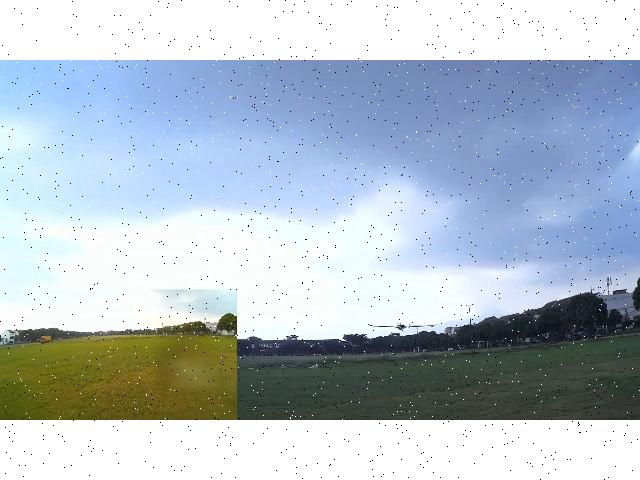Anti-Drone: (368, 322, 438, 330)
